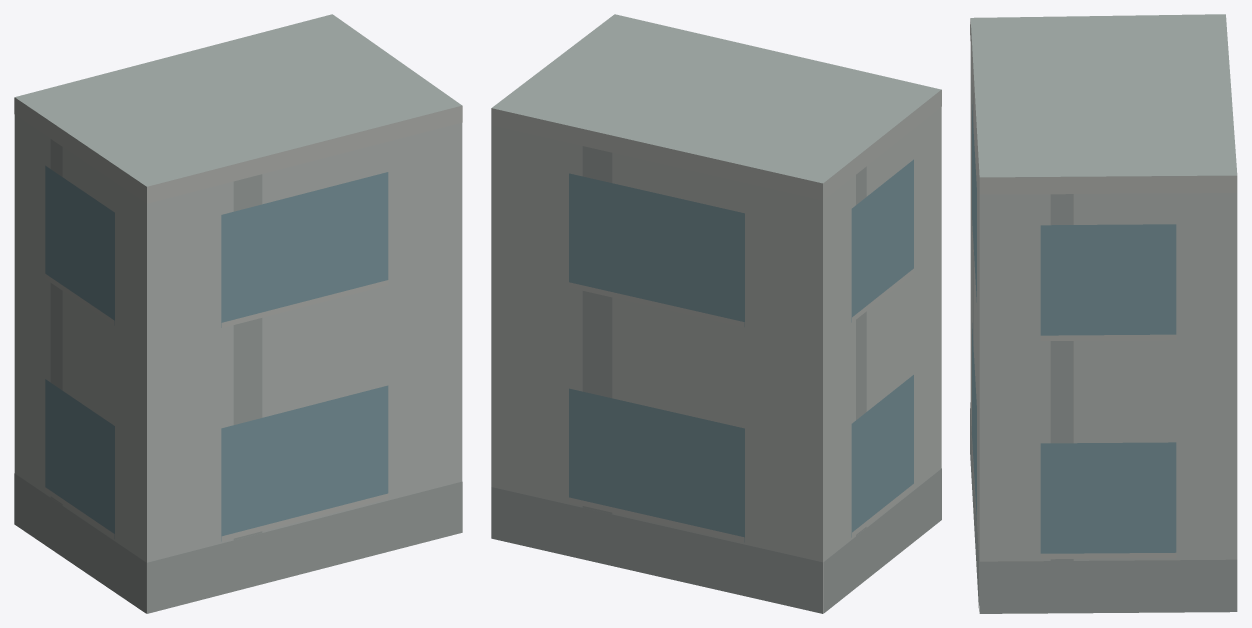
The model's file is survey-upis-32915848.glb.
3 views of the same model, side by side, from view 1: azimuth 30°, elevation 25°; view 2: azimuth 150°, elevation 25°; view 3: azimuth 270°, elevation 25° (orthographic). The views are drawn at different scales.
Parts seen in each view (by area): view 1: survey-upis-32915848.tmp; view 2: survey-upis-32915848.tmp; view 3: survey-upis-32915848.tmp.
Part boxes in pixels (x1,y1,x2,y2): survey-upis-32915848.tmp: [14, 14, 462, 613]; survey-upis-32915848.tmp: [491, 14, 941, 613]; survey-upis-32915848.tmp: [970, 14, 1237, 613].
Bounding box in the file's own units: 4.91 × 6.1 × 3.39.
